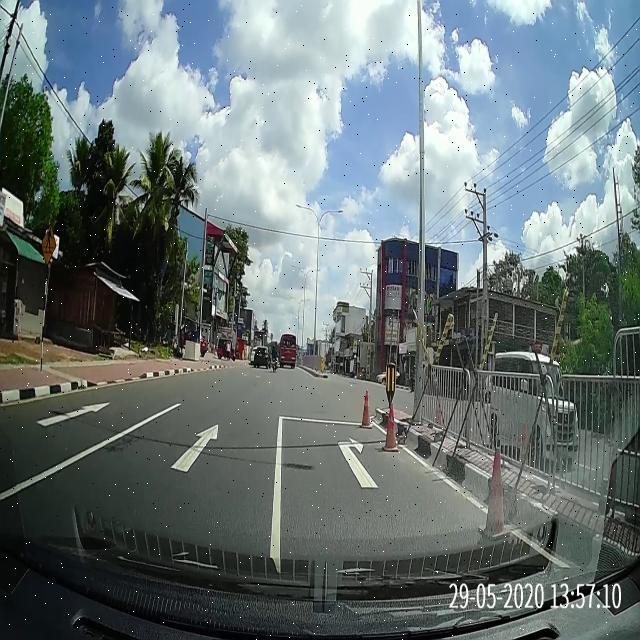forward: (74, 398, 289, 516)
